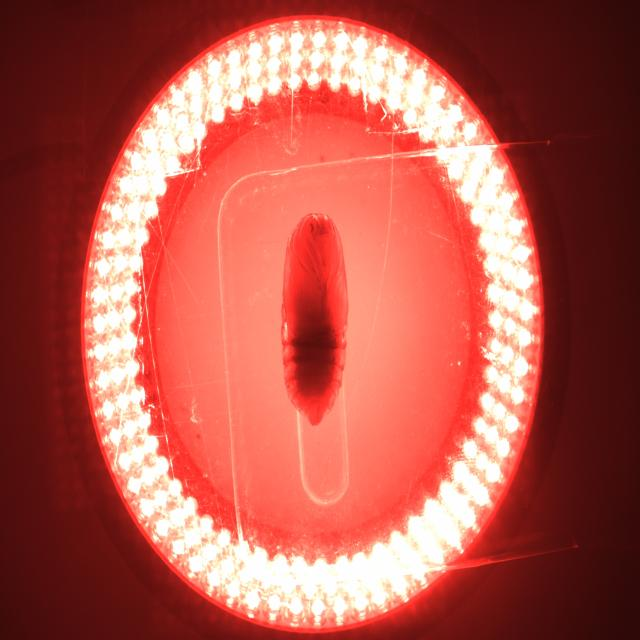female: (313, 402, 321, 414)
